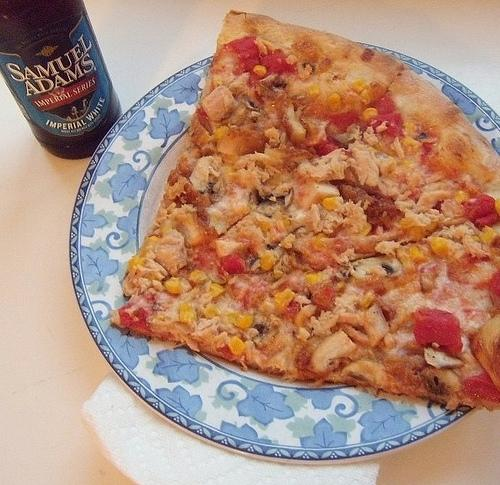mushroom: (470, 312, 500, 394), (312, 331, 356, 372), (425, 368, 463, 408), (249, 188, 294, 216), (340, 361, 386, 388), (204, 85, 236, 120), (352, 256, 401, 278), (301, 184, 340, 211), (252, 313, 279, 349), (198, 174, 226, 204), (424, 348, 463, 369), (190, 156, 212, 190), (258, 74, 288, 94), (334, 123, 358, 147), (416, 132, 438, 142), (246, 98, 260, 112), (250, 260, 261, 272), (268, 242, 278, 249)
tomato: (414, 308, 464, 358), (460, 368, 500, 404), (462, 194, 499, 231), (357, 112, 405, 137), (230, 36, 262, 71), (316, 110, 362, 134), (119, 304, 153, 332), (260, 52, 296, 78), (310, 284, 336, 320), (315, 136, 344, 156), (220, 255, 247, 274), (372, 94, 394, 116)
